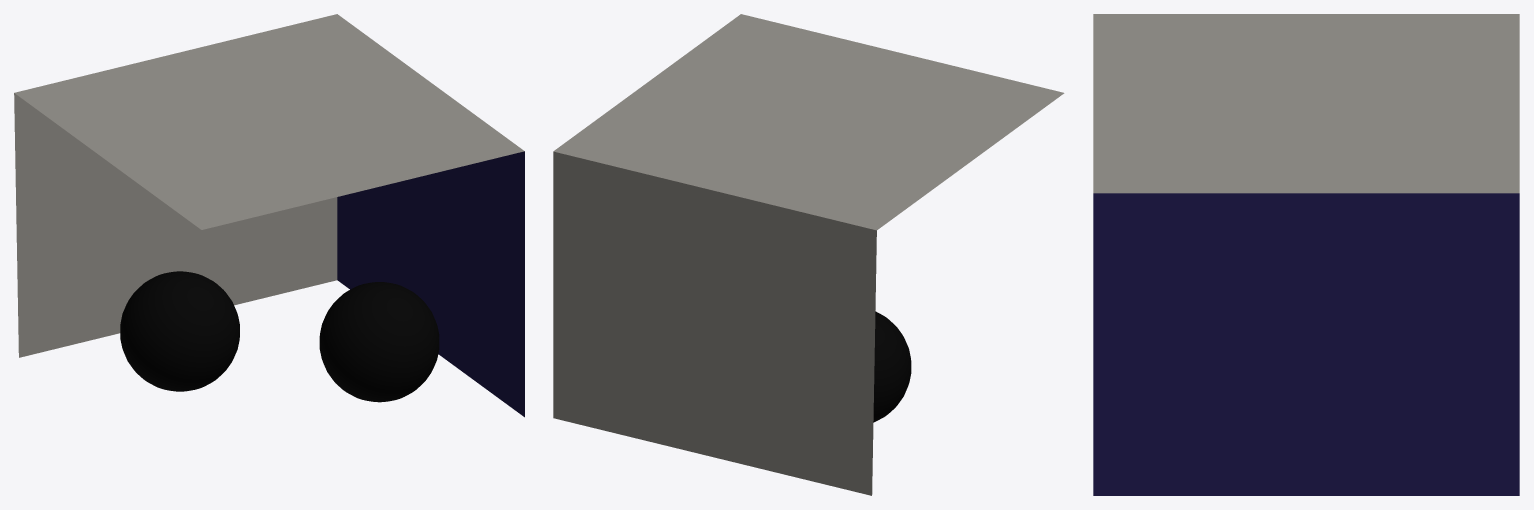
Rendered from cornellbox.obj.
3 views of the same model, side by side, from view 1: azimuth 30°, elevation 25°; view 2: azimuth 150°, elevation 25°; view 3: azimuth 270°, elevation 25° (orthographic). The views are drawn at different scales.
Parts seen in each view (by area): view 1: ceiling, backWall, rightWall, rightSphere, leftSphere; view 2: backWall, ceiling, leftSphere; view 3: rightWall, ceiling.
Part boxes in pixels (x1,y1,x2,y2): ceiling: (14, 14, 524, 229); backWall: (14, 93, 337, 357); rightWall: (337, 151, 524, 417); rightSphere: (319, 282, 439, 402); leftSphere: (120, 271, 239, 391); backWall: (553, 151, 876, 495); ceiling: (553, 14, 1064, 230); leftSphere: (873, 311, 911, 422); rightWall: (1093, 193, 1519, 495); ceiling: (1093, 14, 1519, 193).
Size of what is drawn, in the model's own units: 2.02 by 1.59 by 2.03.
